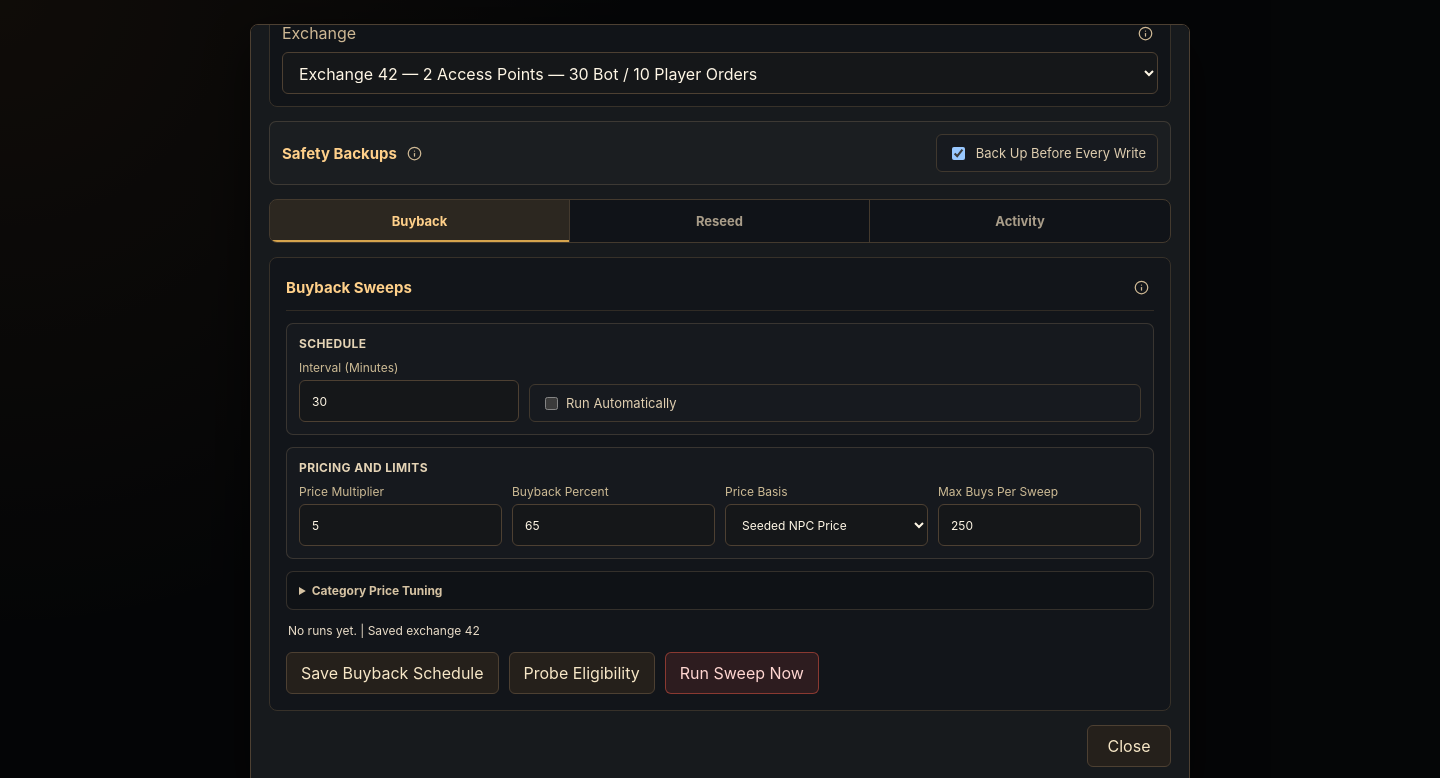
Test: MarketBotOverlay › populates the form from the saved buyback schedule and saves edits with the selected exchange
(page scrolled)
Replace the text in the number field labelled "Buyback Percent" with "250": (614, 525) [512, 504, 715, 546]
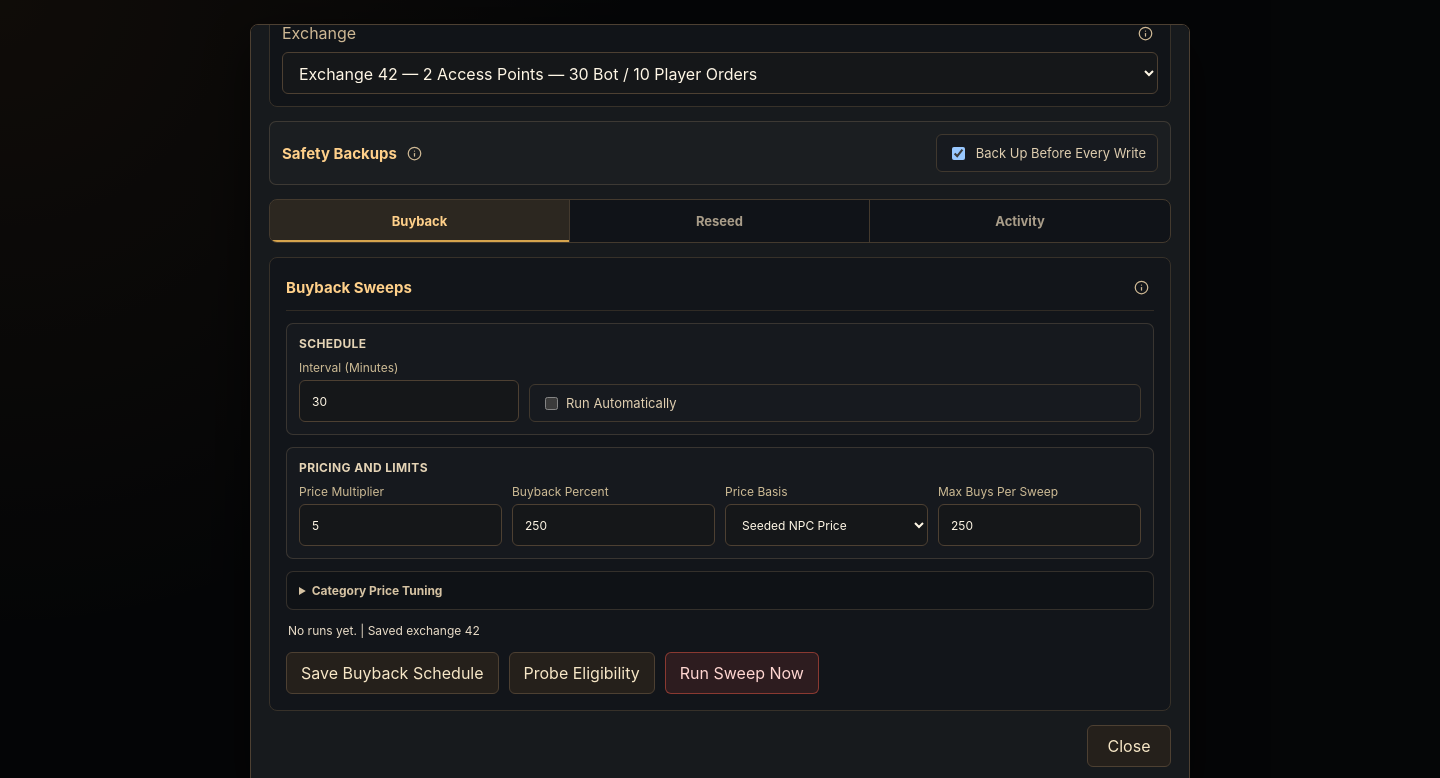
Select "Live Market Lowest" in the dropdown named "Buyback Price Basis": (826, 525) [725, 504, 928, 546]
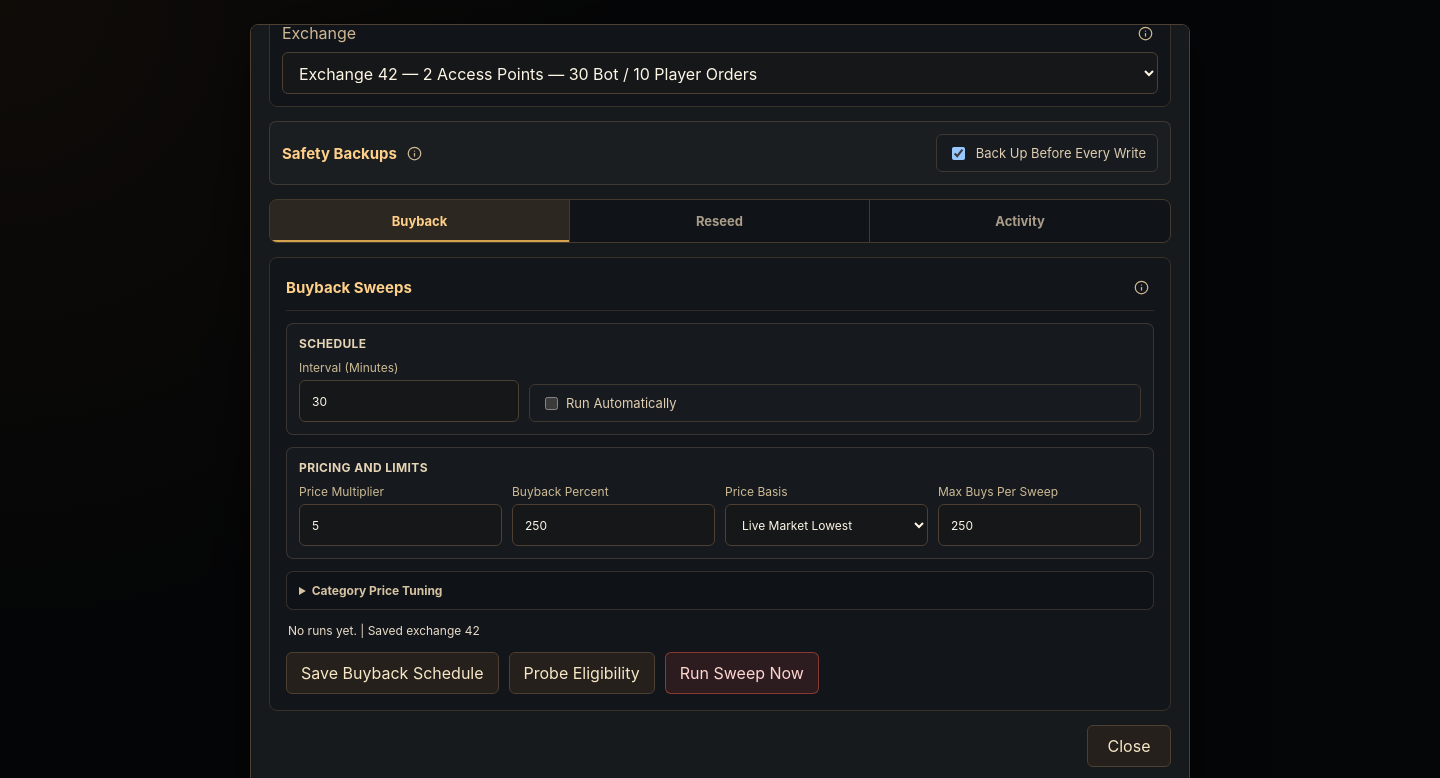
Click the checkbox named "Run Buyback on a Schedule": (552, 403) [545, 397, 558, 410]
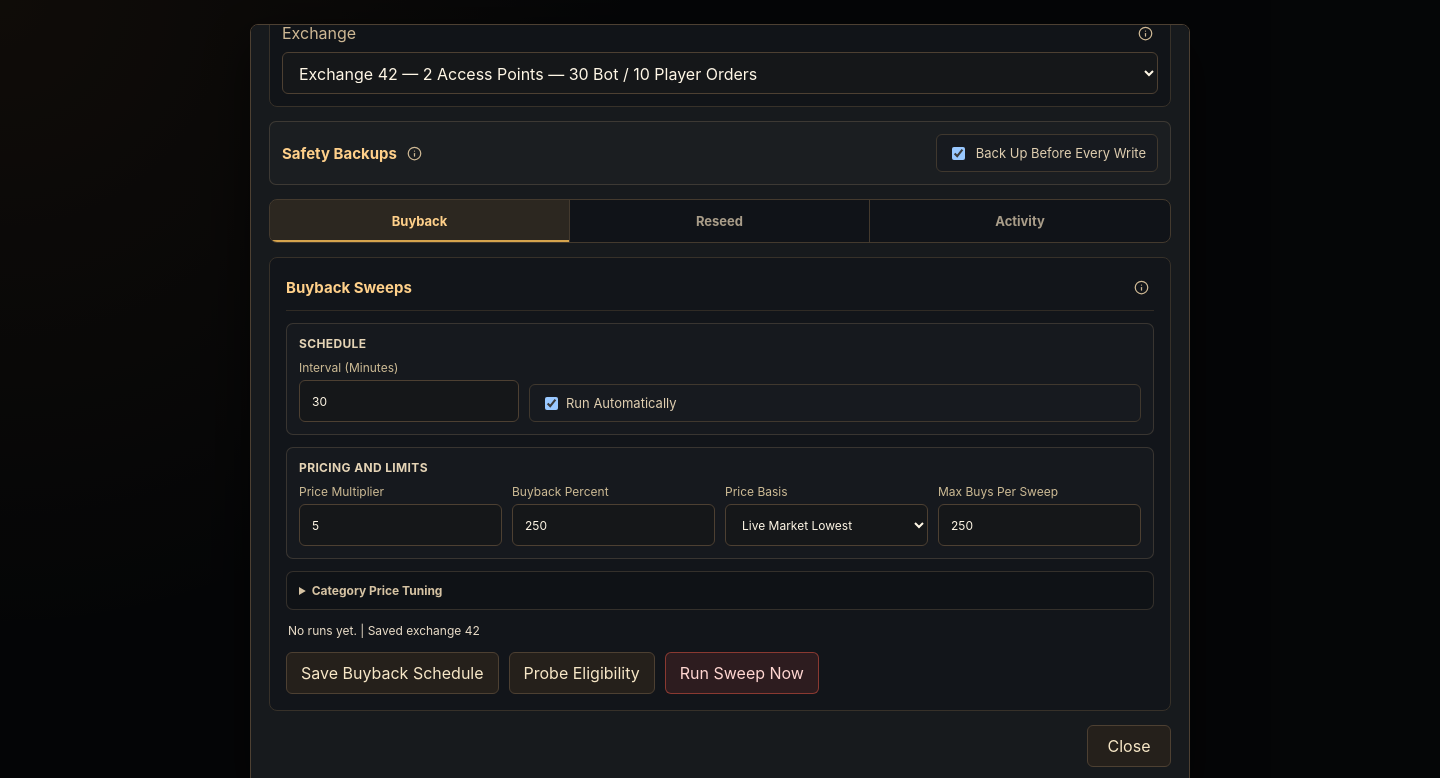
Click the button "Save Buyback Schedule": (392, 673) [286, 652, 498, 694]
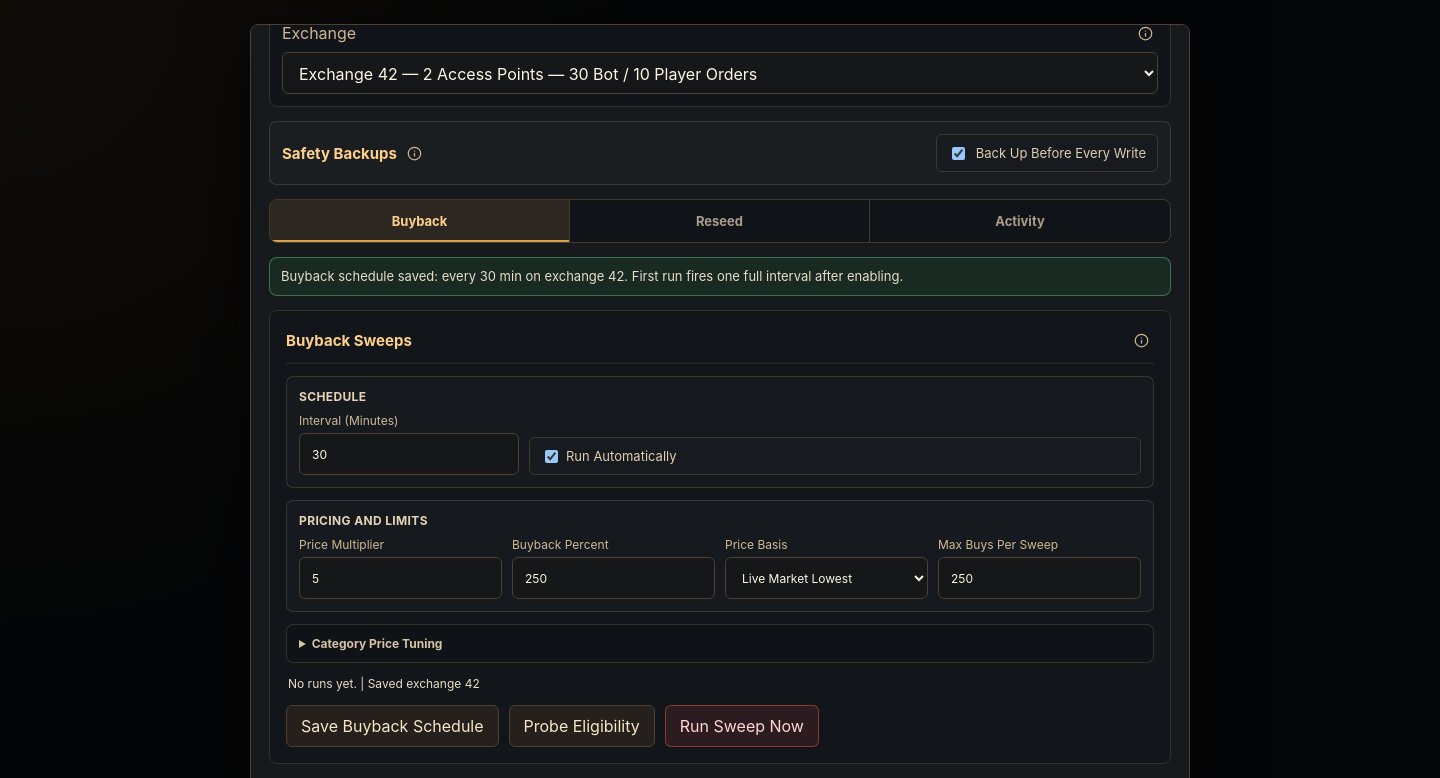
Expected: the text "Buyback schedule saved: every 30 min on exchange 42" is shown, [281, 268, 903, 284]
